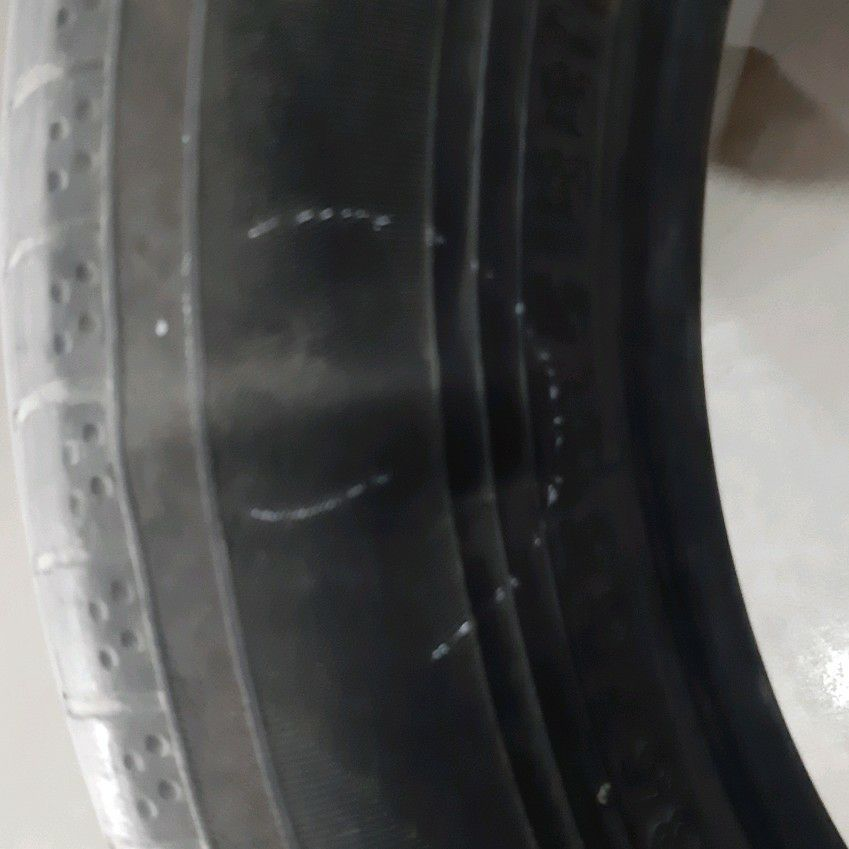CBU: (77, 311, 531, 504)
